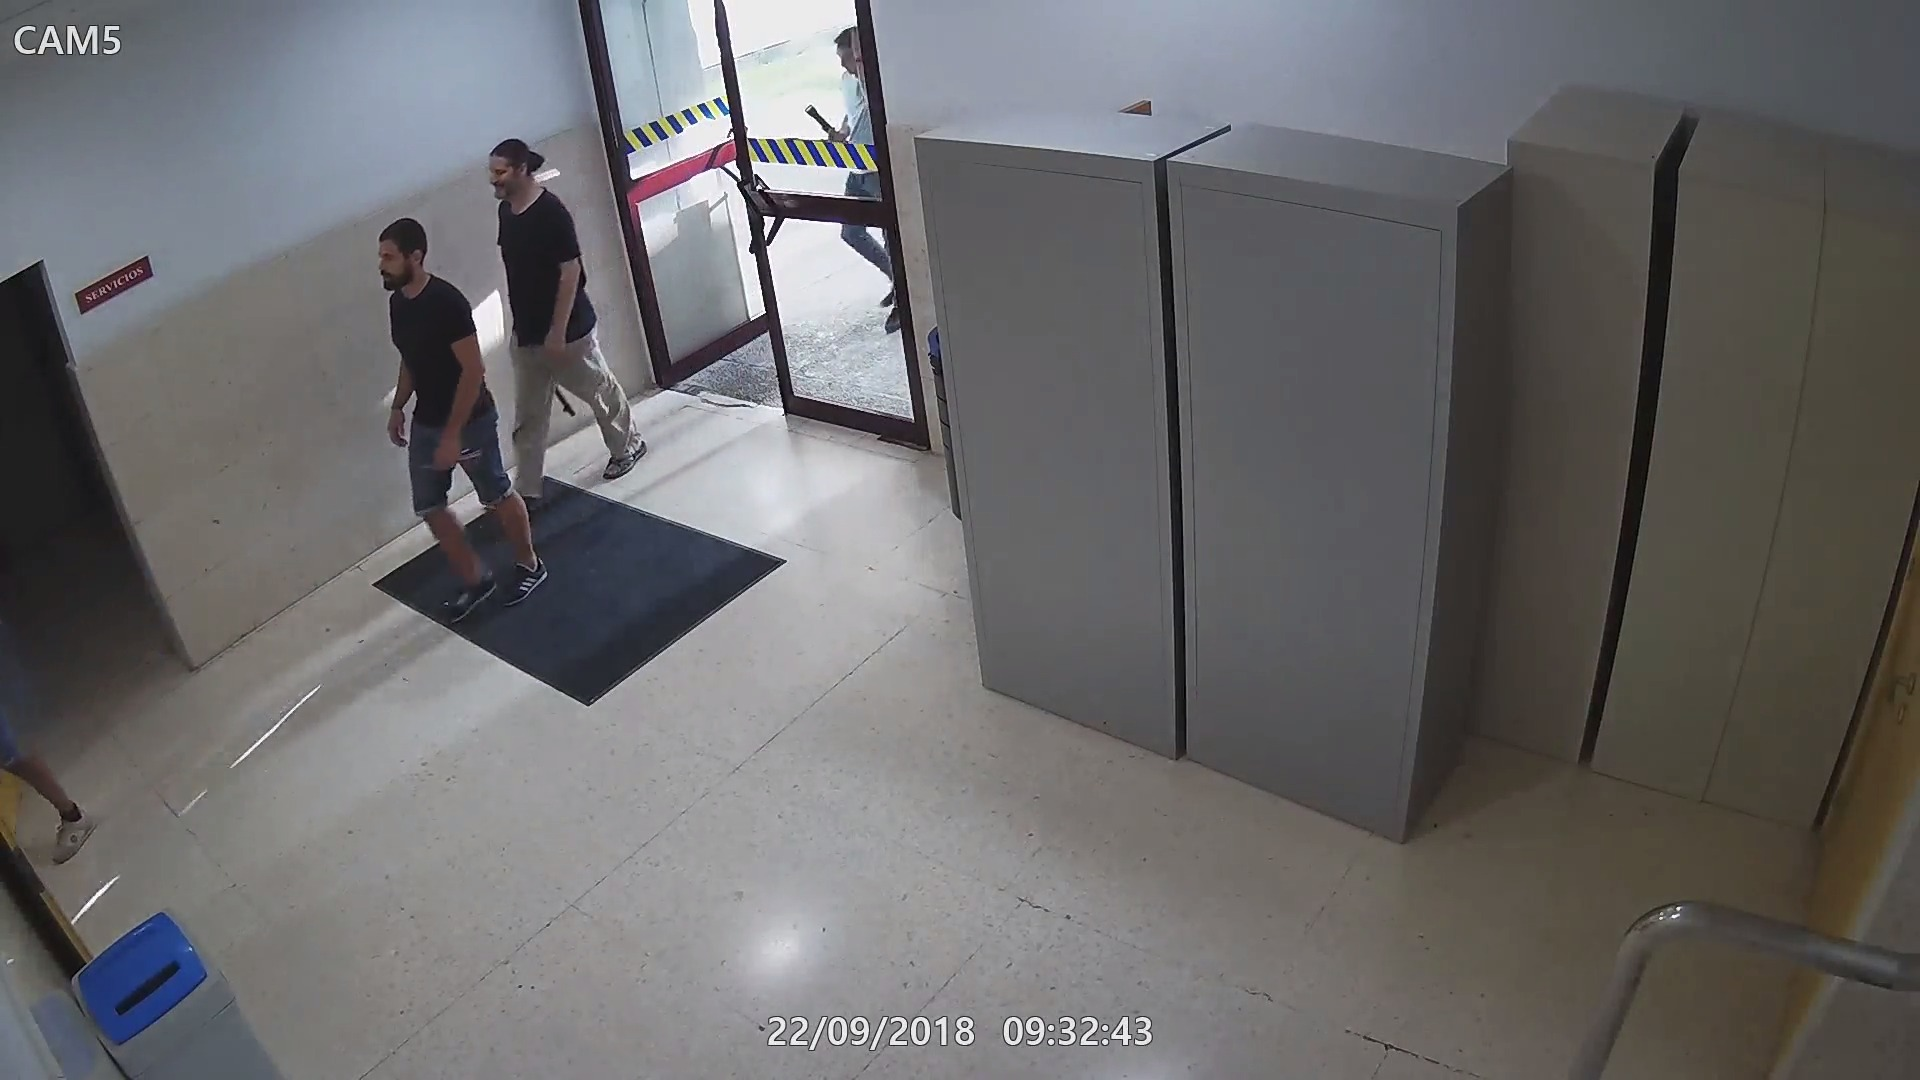Handgun: (419, 438, 485, 477)
Short_rifle: (550, 386, 574, 419)
